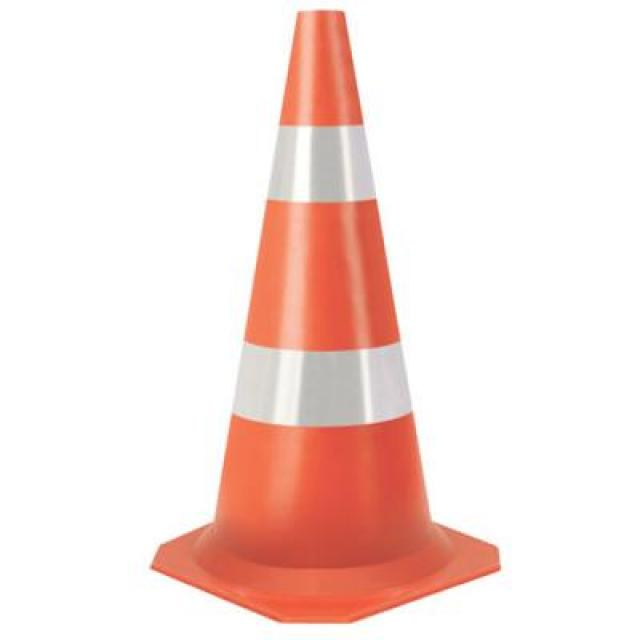cone: (148, 0, 526, 640)
